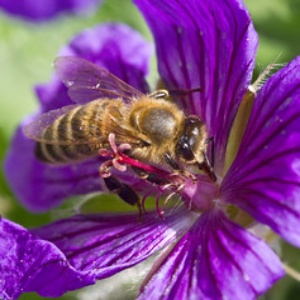bee: (23, 52, 224, 229)
